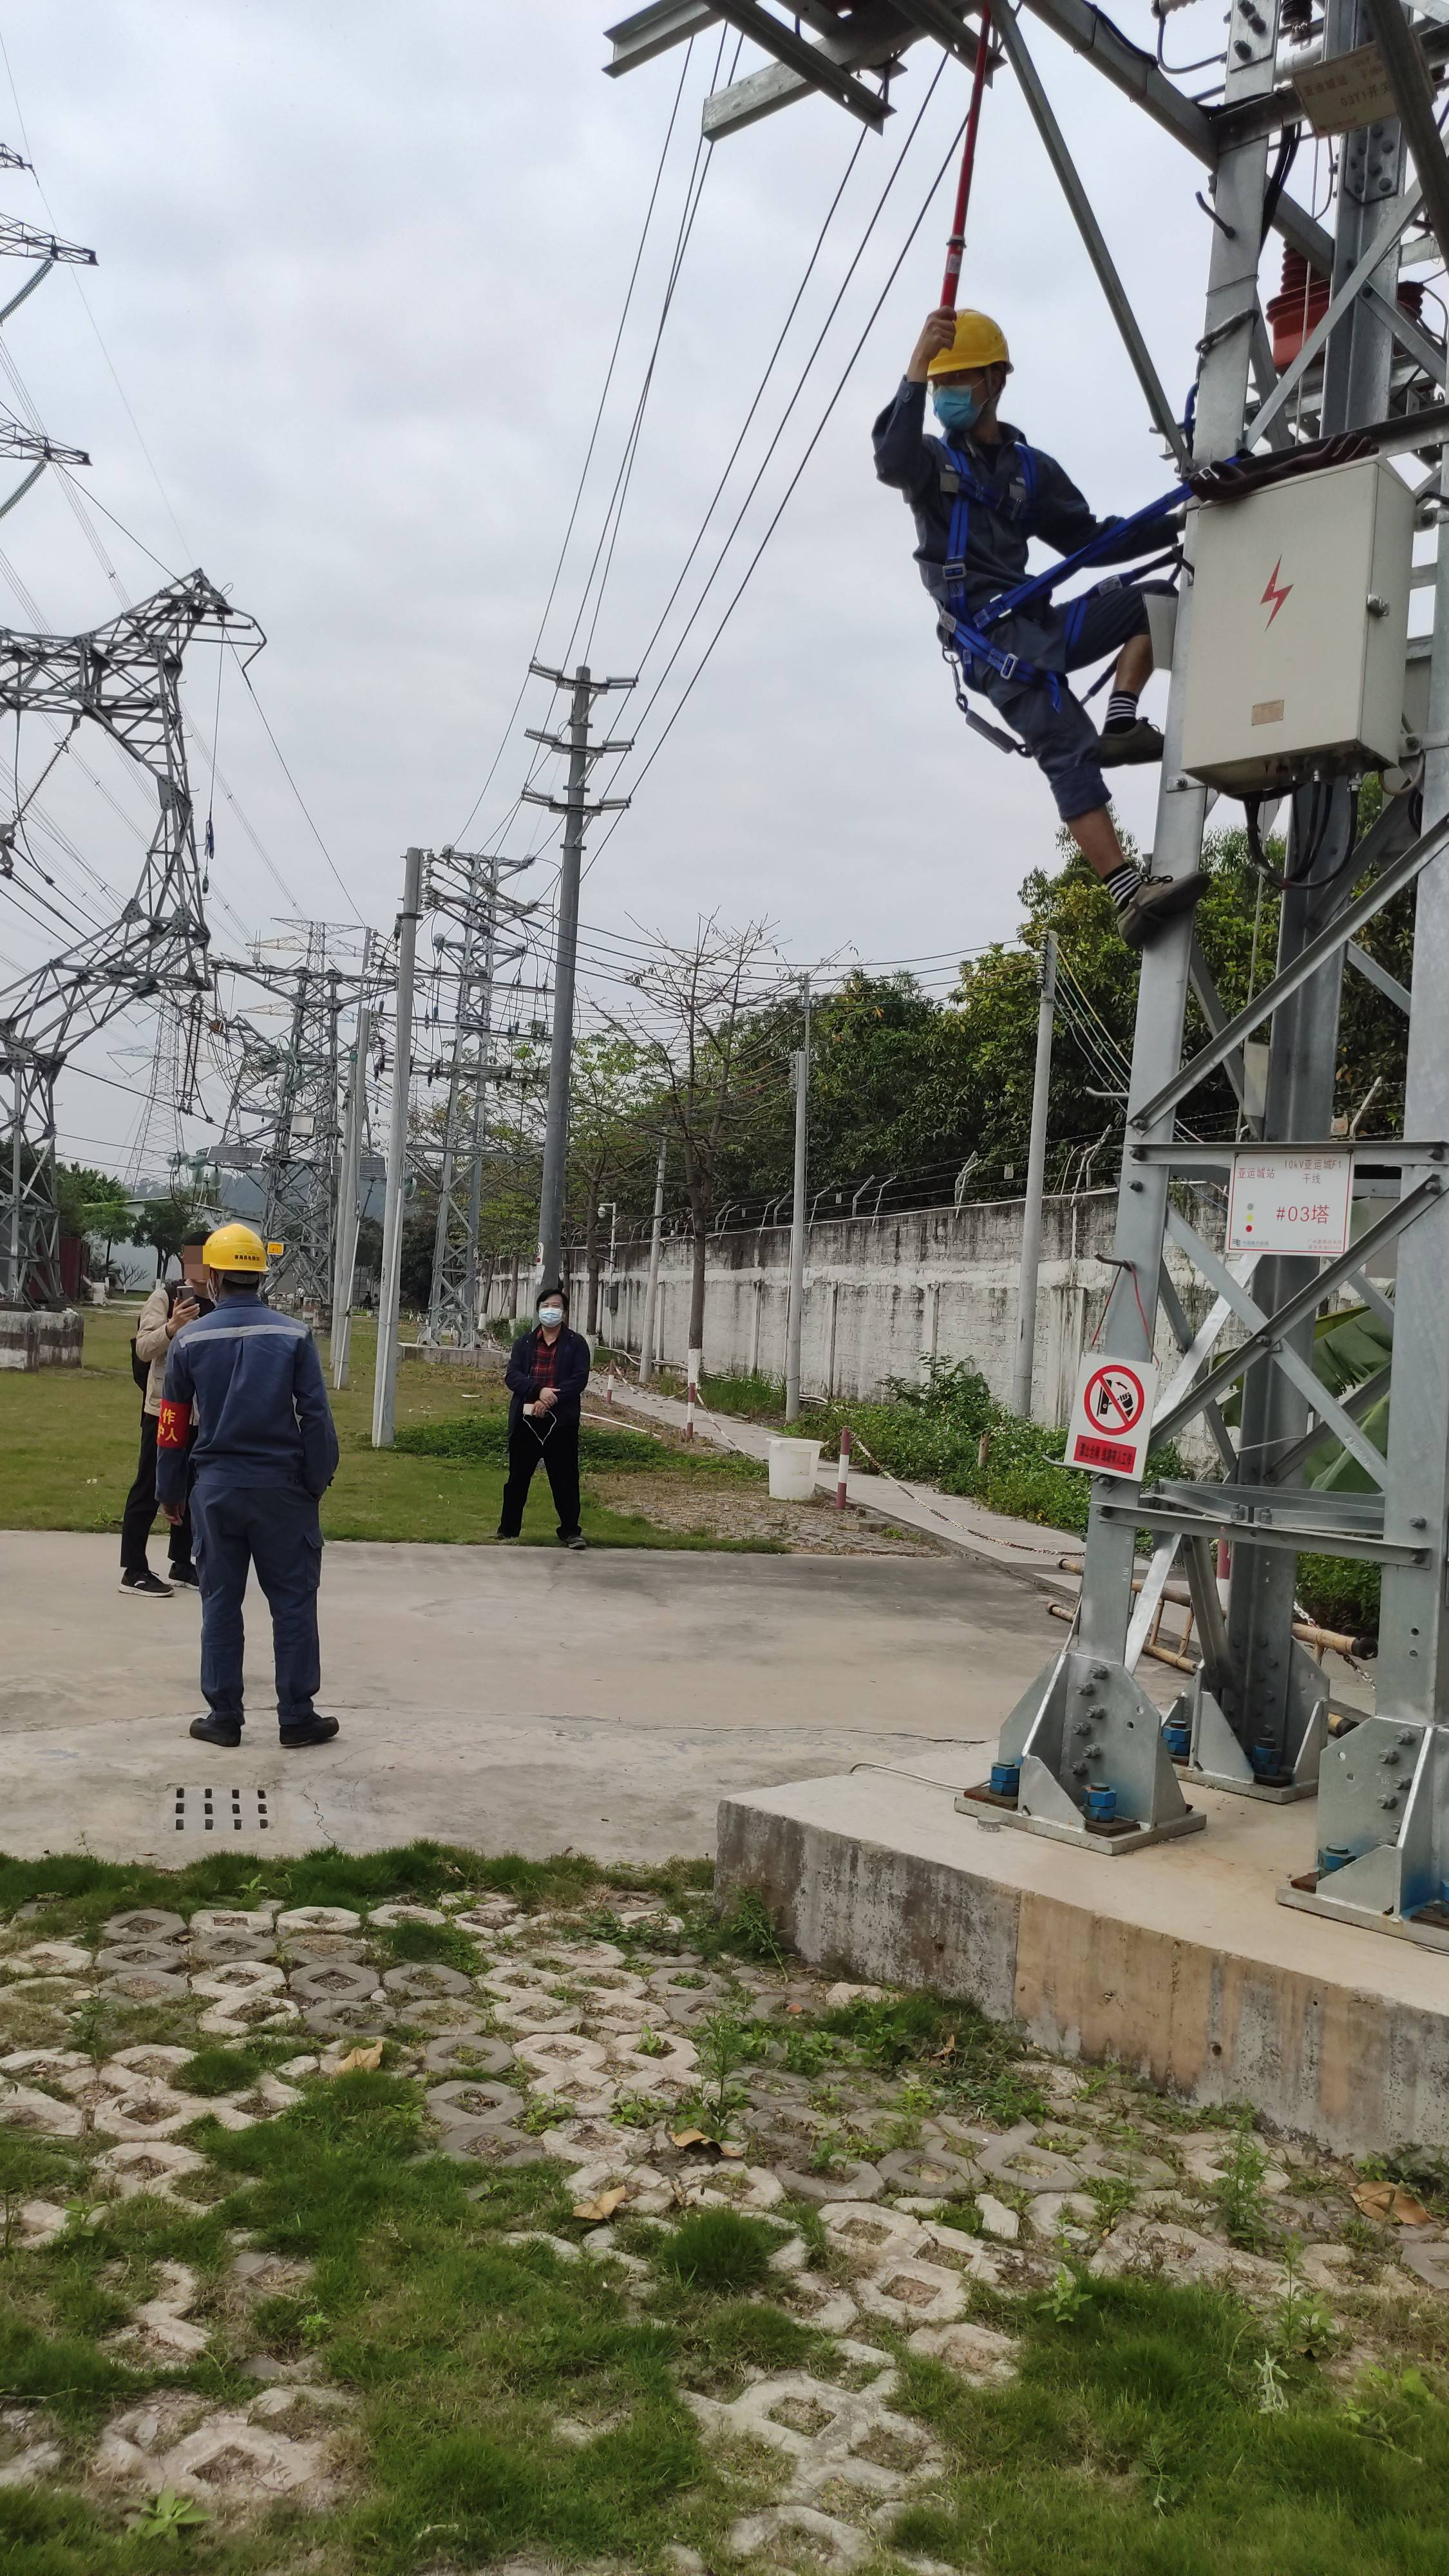downcloth: (499, 1435, 584, 1534)
downsuit: (962, 586, 1161, 828), (189, 1511, 329, 1707)
upcloth: (504, 1322, 594, 1421)
upsuit: (876, 366, 1184, 584), (154, 1295, 343, 1477)
wrongbottom: (1056, 775, 1136, 895), (1111, 616, 1155, 709)
